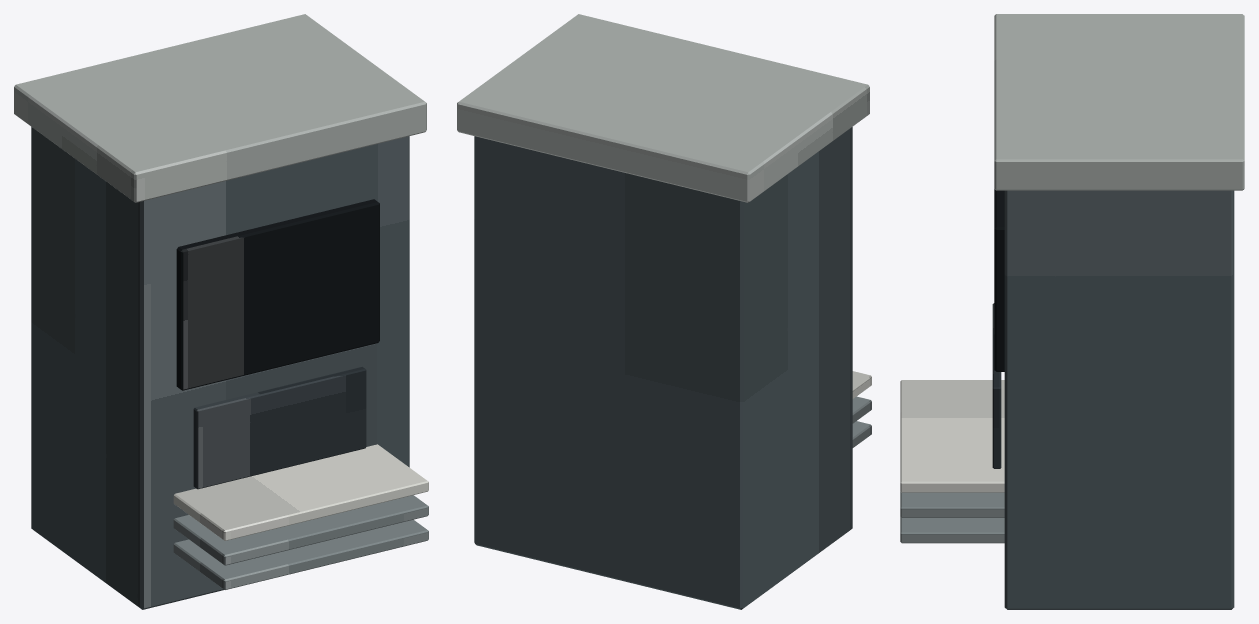
File: prison_tray_return.glb
3 views of the same model, side by side, from view 1: azimuth 30°, elevation 25°; view 2: azimuth 150°, elevation 25°; view 3: azimuth 270°, elevation 25° (orthographic). The views are drawn at different scales.
Visible parts, largest first — view 1: ReturnBody, Top, ReturnOpening, WasteDoor, Tray_2, Tray_0, Tray_1; view 2: ReturnBody, Top; view 3: ReturnBody, Top, Tray_2, Tray_0, Tray_1, ReturnOpening, WasteDoor.
Part boxes in pixels (x1,y1,x2,y2): ReturnBody: (31,127,409,609); Top: (14,14,426,202); ReturnOpening: (176,199,379,390); WasteDoor: (193,366,366,489); Tray_2: (173,444,428,540); Tray_0: (173,519,428,589); Tray_1: (173,495,428,565); ReturnBody: (474,127,852,609); Top: (457,14,869,202); ReturnBody: (1004,190,1234,609); Top: (994,14,1244,190); Tray_2: (900,380,1004,492); Tray_0: (900,517,1004,543); Tray_1: (900,492,1004,517); ReturnOpening: (994,189,1004,371); WasteDoor: (992,303,1001,468).
Bounding box in the file's own units: 1 × 1.45 × 0.99.
1 material, 1 textured.
